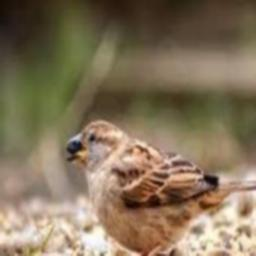Sparrow: (66, 119, 256, 256)
